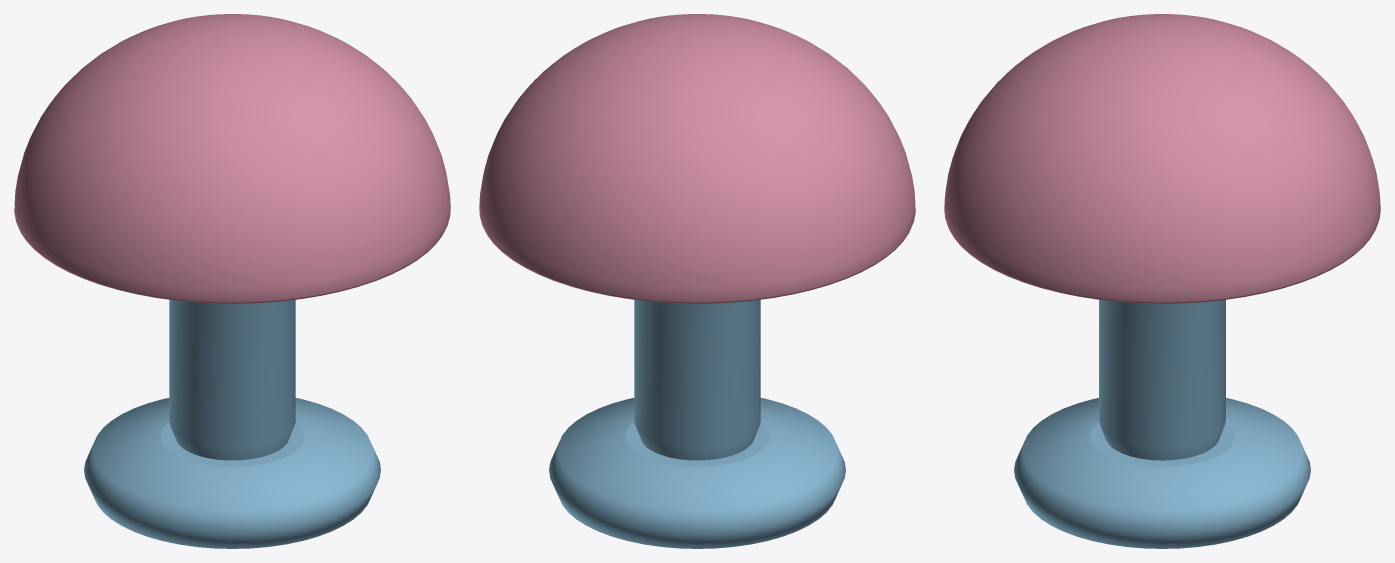
Rendered from lm_mushroom_lamp.glb.
3 views of the same model, side by side, from view 1: azimuth 30°, elevation 25°; view 2: azimuth 150°, elevation 25°; view 3: azimuth 270°, elevation 25° (orthographic).
Visible parts, largest first — view 1: prop; view 2: prop; view 3: prop.
Boxes of the visible parts, x1=… form: prop: x1=14, y1=14, x2=450, y2=548; prop: x1=479, y1=14, x2=915, y2=548; prop: x1=944, y1=14, x2=1380, y2=548.
Size of the model in its own units: 0.1999 by 0.233 by 0.1999.
